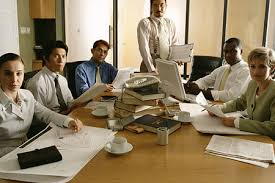F_shirt: (26, 68, 81, 119), (192, 60, 249, 101)
